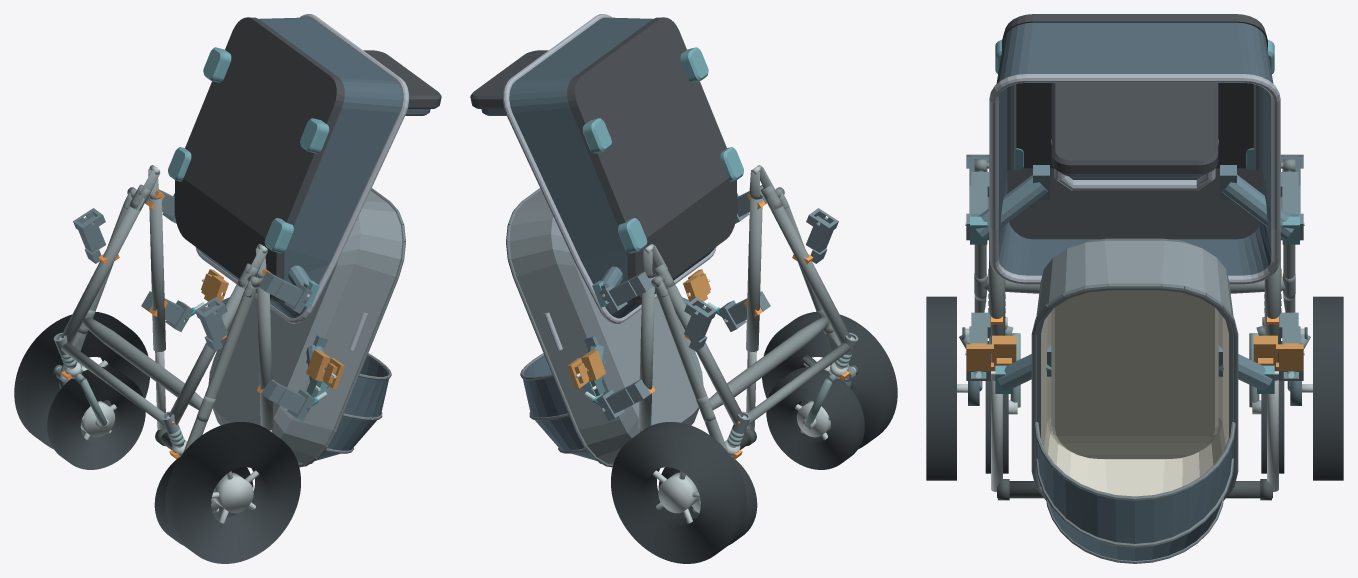
Rendered from D21_w650_state3_wheel_L.glb.
3 renders of one model, left to right at view 1: azimuth 30°, elevation 25°; view 2: azimuth 150°, elevation 25°; view 3: azimuth 270°, elevation 25°, orthographic. The views are drawn at different scales.
Parts seen in each view (by area): view 1: D21_Lower, D21_Upper, RL_tire.008, FR_tire.008, RR_tire.008, V46_rearbar.009, main_upper_1.009, main_lower_1.009, V46_rear_leg_-1.009, main_upper_-1.009, main_lower_-1.009, front_fixed_round_tube.008 (+13 smaller); view 2: D21_Lower, D21_Upper, RR_tire.008, FL_tire.008, RL_tire.008, V46_rearbar.009, main_upper_-1.009, main_lower_-1.009, V46_rear_leg_1.009, main_upper_1.009, main_lower_1.009, front_fixed_round_tube.008 (+13 smaller); view 3: D21_Lower, D21_Upper, RL_tire.008, RR_tire.008, D21_Lower_Mount_M, D21_Upper_Mount_H, D02_WideAdapter_H_-1, D02_WideAdapter_H_1, handle_slider_1.008, handle_slider_-1.008, round_handle.008, main_upper_1.009 (+10 smaller).
Boxes of the visible parts, bbox=[...] form: D21_Lower: bbox=[168, 14, 441, 323]; D21_Upper: bbox=[208, 188, 405, 467]; RL_tire.008: bbox=[165, 422, 300, 563]; FR_tire.008: bbox=[47, 367, 145, 469]; RR_tire.008: bbox=[14, 311, 149, 449]; V46_rearbar.009: bbox=[82, 317, 202, 410]; main_upper_1.009: bbox=[149, 197, 165, 351]; main_lower_1.009: bbox=[61, 198, 144, 343]; V46_rear_leg_-1.009: bbox=[183, 287, 256, 452]; main_upper_-1.009: bbox=[256, 276, 273, 430]; main_lower_-1.009: bbox=[168, 282, 247, 424]; front_fixed_round_tube.008: bbox=[61, 343, 164, 424]; D21_Lower: bbox=[470, 14, 743, 323]; D21_Upper: bbox=[506, 188, 703, 467]; RR_tire.008: bbox=[611, 422, 746, 563]; FL_tire.008: bbox=[766, 367, 864, 469]; RL_tire.008: bbox=[762, 311, 897, 449]; V46_rearbar.009: bbox=[709, 317, 829, 410]; main_upper_-1.009: bbox=[746, 197, 762, 351]; main_lower_-1.009: bbox=[767, 198, 850, 343]; V46_rear_leg_1.009: bbox=[655, 287, 728, 452]; main_upper_1.009: bbox=[638, 274, 655, 430]; main_lower_1.009: bbox=[664, 282, 743, 424]; front_fixed_round_tube.008: bbox=[747, 343, 850, 424]; D21_Lower: bbox=[989, 14, 1280, 284]; D21_Upper: bbox=[1031, 238, 1238, 563]; RL_tire.008: bbox=[926, 296, 956, 480]; RR_tire.008: bbox=[1313, 296, 1343, 480]; D21_Lower_Mount_M: bbox=[965, 165, 1304, 244]; D21_Upper_Mount_H: bbox=[991, 345, 1278, 393]; D02_WideAdapter_H_-1: bbox=[965, 335, 1016, 371]; D02_WideAdapter_H_1: bbox=[1253, 335, 1304, 371]; handle_slider_1.008: bbox=[1267, 380, 1278, 491]; handle_slider_-1.008: bbox=[991, 380, 1002, 491]; round_handle.008: bbox=[997, 481, 1272, 498]; main_upper_1.009: bbox=[1264, 198, 1280, 380].
Bounding box in the file's own units: 0.9247 × 1.17 × 0.8171.
